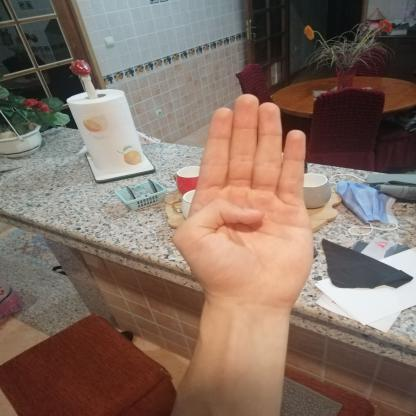KAAF: (154, 86, 336, 327)
